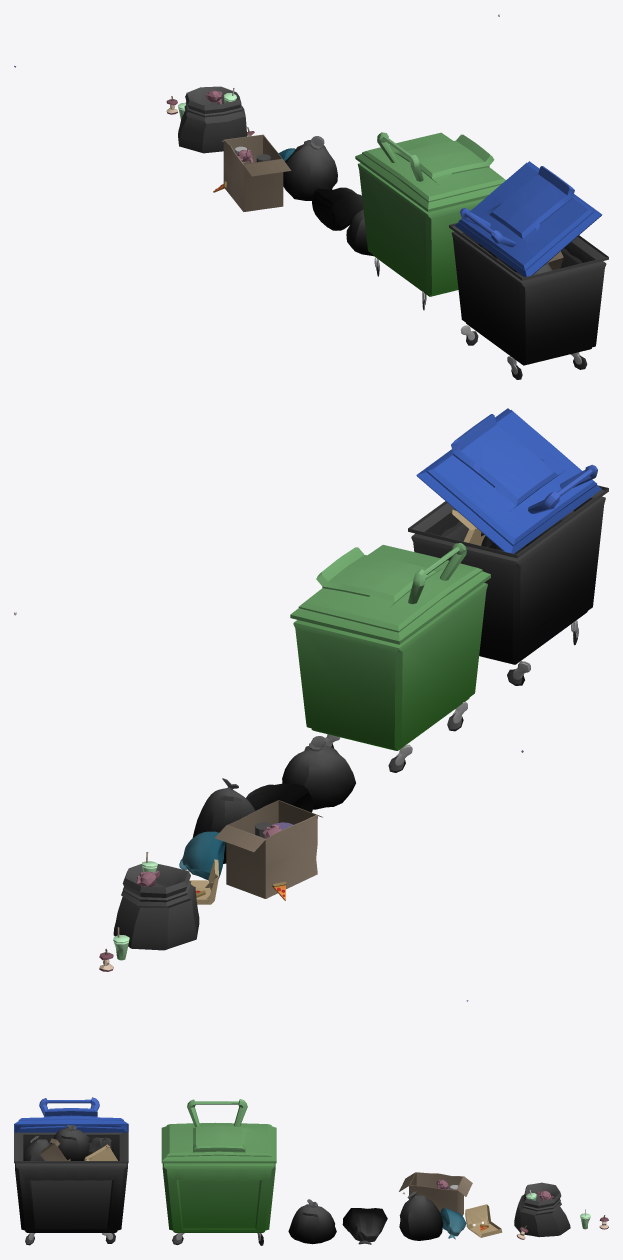
The model's file is PROPSCONTEXT.fbx.
The picture shows the model from 3 angles, top to bottom: view 1: azimuth 30°, elevation 25°; view 2: azimuth 150°, elevation 25°; view 3: azimuth 270°, elevation 25°; orthographic projection. The views are drawn at different scales.
Visible parts, largest first — view 1: Cube.009, Cube.024, Cube.025, Cube.004, Cube.005, Cube.002, Cube.001, Cube; view 2: Cube.009, Cube.024, Cube.025, Cube.004, Cube.005, Cube, Cube.002, Cube.003, Cube.001; view 3: Cube.009, Cube.024, Cube.025, Cube.005, Cube.004, Cube.002, Cube, Cube.001, Cube.028, Plane.001, Cube.003, Cube.026 (+1 smaller).
Part boxes in pixels (x1=…): Cube.009: x1=355, y1=132, x2=505, y2=296; Cube.024: x1=449, y1=223, x2=608, y2=365; Cube.025: x1=455, y1=161, x2=602, y2=276; Cube.004: x1=222, y1=134, x2=291, y2=211; Cube.005: x1=178, y1=86, x2=247, y2=153; Cube.002: x1=283, y1=136, x2=337, y2=200; Cube.001: x1=312, y1=187, x2=363, y2=230; Cube: x1=346, y1=209, x2=373, y2=256; Cube.009: x1=290, y1=543, x2=490, y2=750; Cube.024: x1=408, y1=485, x2=608, y2=664; Cube.025: x1=416, y1=408, x2=601, y2=553; Cube.004: x1=215, y1=800, x2=322, y2=898; Cube.005: x1=113, y1=864, x2=199, y2=950; Cube: x1=282, y1=736, x2=355, y2=809; Cube.002: x1=192, y1=778, x2=255, y2=863; Cube.003: x1=179, y1=831, x2=225, y2=879; Cube.001: x1=246, y1=783, x2=313, y2=812; Cube.009: x1=161, y1=1099, x2=276, y2=1232; Cube.024: x1=14, y1=1131, x2=128, y2=1232; Cube.025: x1=14, y1=1097, x2=128, y2=1132; Cube.005: x1=514, y1=1182, x2=570, y2=1237; Cube.004: x1=399, y1=1172, x2=472, y2=1215; Cube.002: x1=399, y1=1191, x2=443, y2=1240; Cube: x1=288, y1=1199, x2=336, y2=1244; Cube.001: x1=342, y1=1208, x2=387, y2=1244; Cube.028: x1=51, y1=1125, x2=90, y2=1160; Plane.001: x1=465, y1=1204, x2=502, y2=1237; Cube.003: x1=440, y1=1208, x2=466, y2=1239; Cube.026: x1=23, y1=1135, x2=50, y2=1160.
Bounding box in the file's own units: 492 × 189 × 723.
35 materials, 33 textured.
